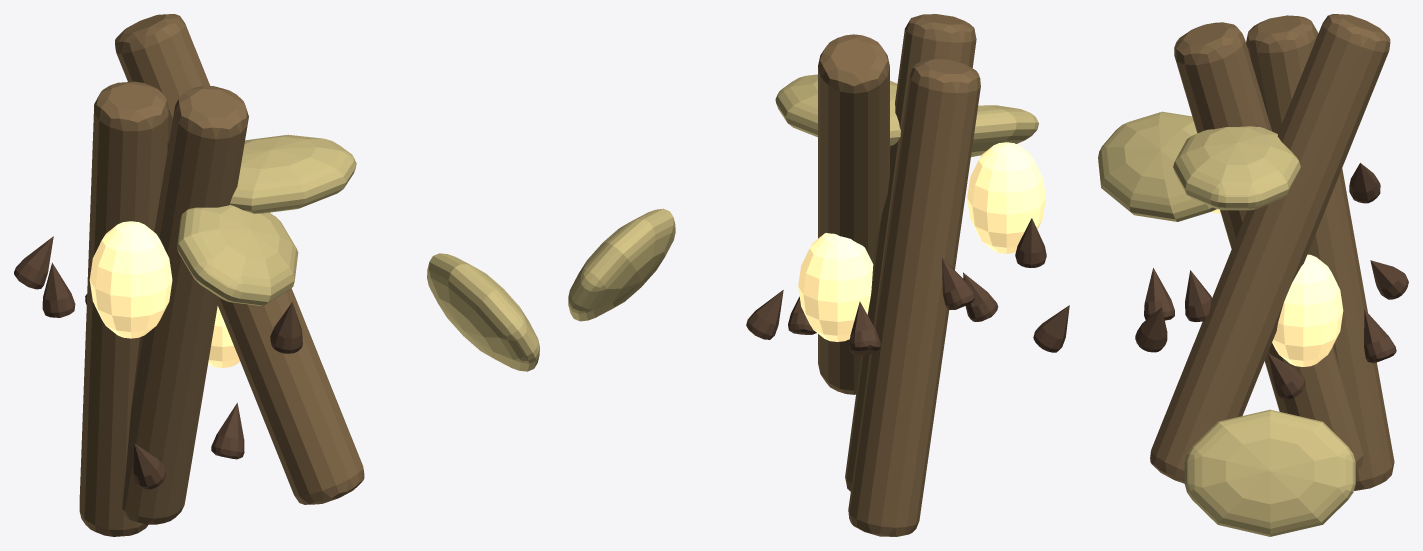
Rendered from withered_bramble.glb.
3 views of the same model, side by side, from view 1: azimuth 30°, elevation 25°; view 2: azimuth 150°, elevation 25°; view 3: azimuth 270°, elevation 25° (orthographic). The views are drawn at different scales.
Parts seen in each view (by area): view 1: Vine0, Vine2, Vine1, Leaf1, Leaf0, Resin1, Leaf2, Spike6, Spike3, Spike4, Spike7, Resin0 (+1 smaller); view 2: Vine2, Vine1, Vine0, Leaf2, Resin1, Resin0, Leaf0, Leaf1, Spike2, Spike1, Spike3, Spike5 (+2 smaller); view 3: Vine1, Leaf2, Vine2, Vine0, Leaf0, Leaf1, Resin0, Spike1, Spike0, Spike6, Spike2, Spike7 (+2 smaller).
Boxes of the visible parts, bbox=[...] form: Vine0: bbox=[122, 85, 248, 524]; Vine2: bbox=[79, 81, 168, 536]; Vine1: bbox=[115, 14, 364, 504]; Leaf1: bbox=[177, 205, 298, 305]; Leaf0: bbox=[230, 134, 356, 213]; Resin1: bbox=[89, 221, 172, 338]; Leaf2: bbox=[427, 253, 539, 371]; Spike6: bbox=[211, 402, 244, 459]; Spike3: bbox=[14, 236, 53, 289]; Spike4: bbox=[42, 262, 75, 317]; Spike7: bbox=[270, 302, 302, 353]; Resin0: bbox=[208, 306, 239, 367]; Vine2: bbox=[848, 59, 980, 536]; Vine1: bbox=[818, 34, 889, 394]; Vine0: bbox=[845, 14, 976, 491]; Leaf2: bbox=[568, 208, 675, 321]; Resin1: bbox=[967, 142, 1045, 253]; Resin0: bbox=[798, 233, 873, 341]; Leaf0: bbox=[775, 74, 900, 145]; Leaf1: bbox=[971, 105, 1038, 156]; Spike2: bbox=[849, 301, 880, 355]; Spike1: bbox=[746, 290, 783, 339]; Spike3: bbox=[942, 258, 975, 309]; Spike5: bbox=[1033, 305, 1069, 352]; Vine1: bbox=[1150, 14, 1390, 483]; Leaf2: bbox=[1184, 409, 1355, 536]; Vine2: bbox=[1246, 15, 1394, 490]; Vine0: bbox=[1174, 22, 1363, 469]; Leaf0: bbox=[1173, 126, 1300, 210]; Leaf1: bbox=[1098, 111, 1216, 221]; Resin0: bbox=[1272, 254, 1343, 366]; Spike1: bbox=[1364, 309, 1396, 363]; Spike0: bbox=[1268, 353, 1305, 399]; Spike6: bbox=[1135, 307, 1167, 352]; Spike2: bbox=[1370, 260, 1408, 299]; Spike7: bbox=[1185, 270, 1212, 321].
Bounding box in the file's own units: 0.3193 × 0.3221 × 0.1871.
